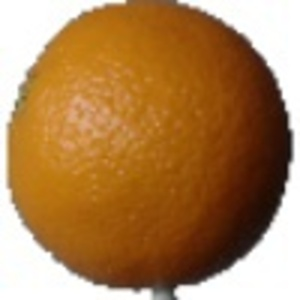laranja: (4, 3, 297, 287)
